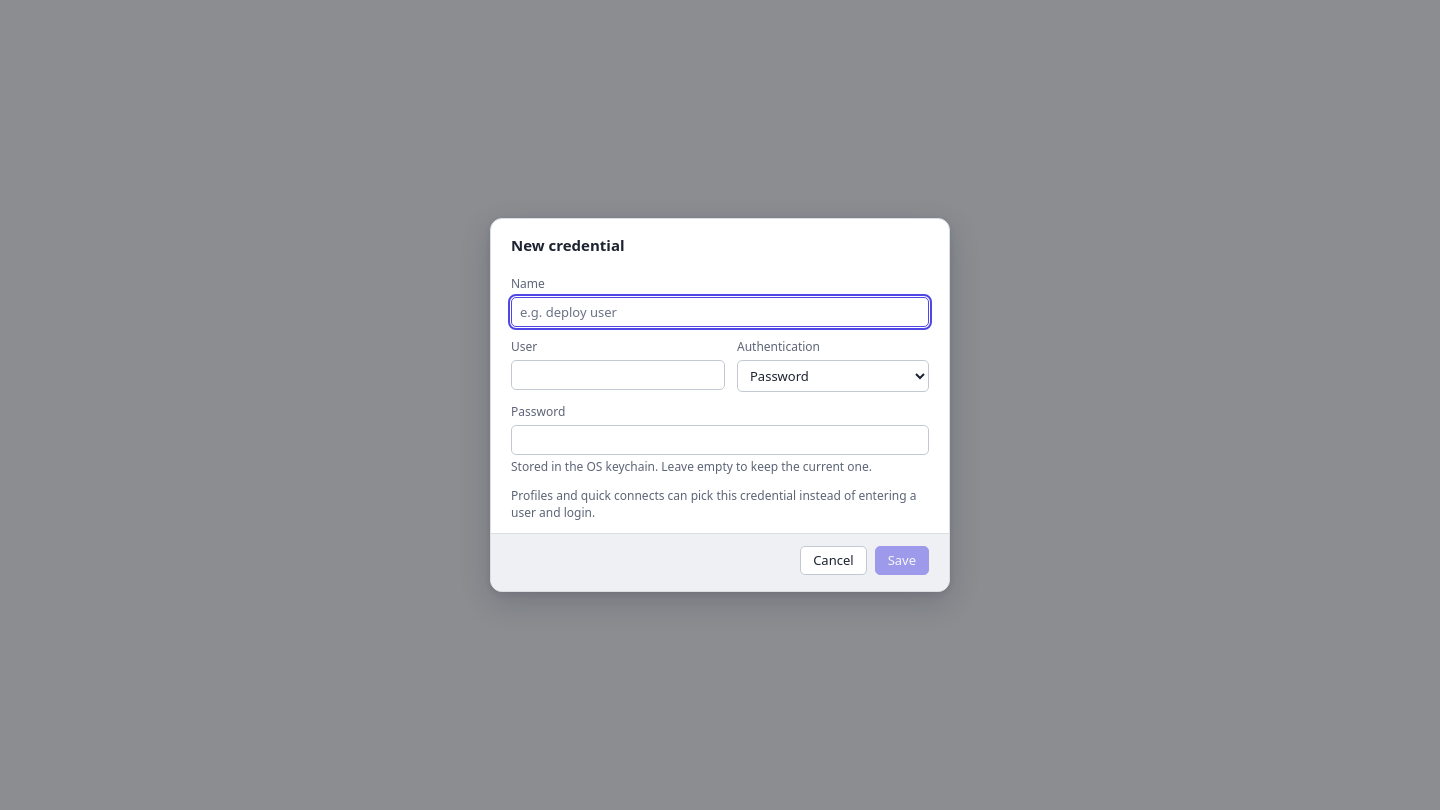
Test case: CredentialDialog › shows backend errors
In the field labelled "Name": (720, 312) [511,297,929,327], type "x"
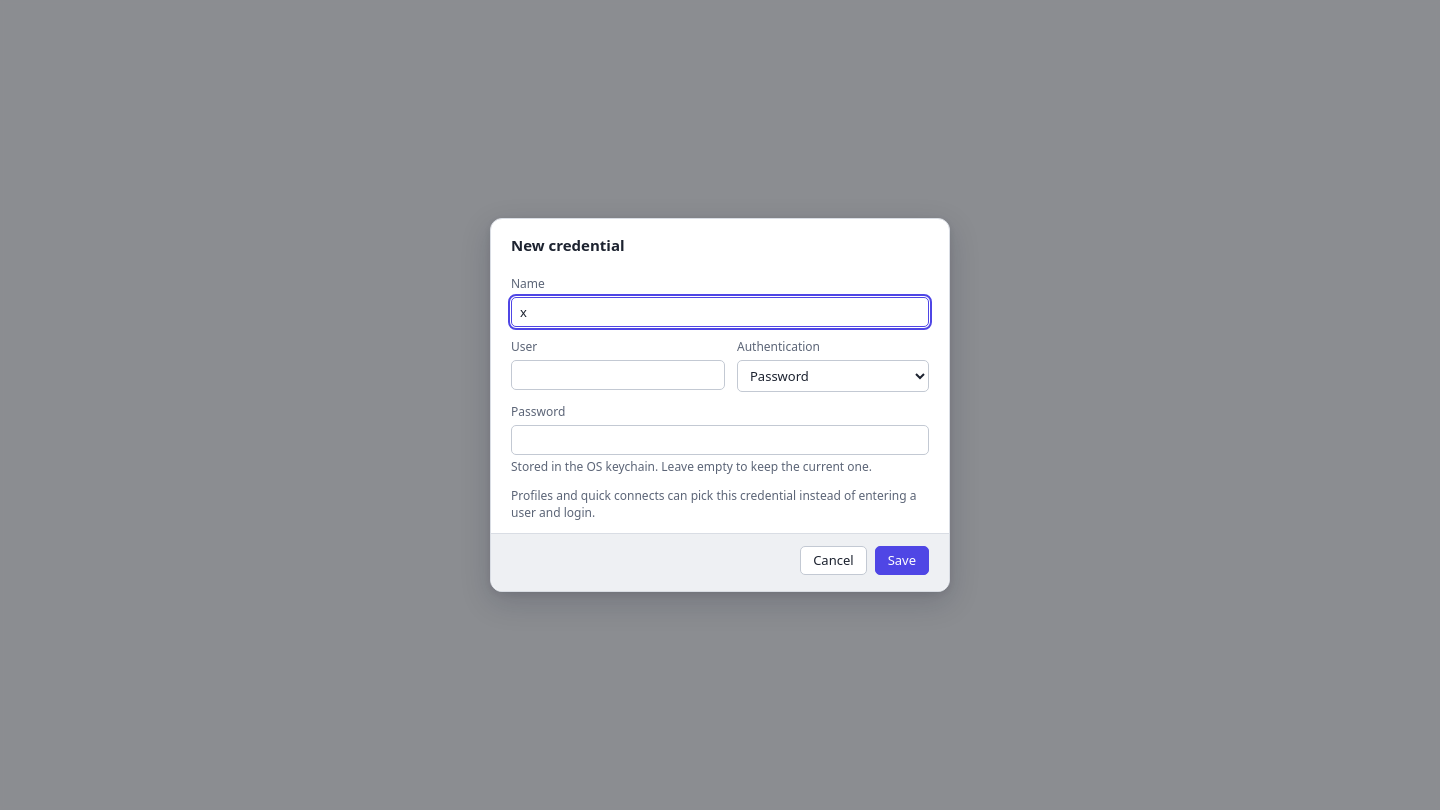
Click the button "Save": (902, 561) [875,546,929,575]
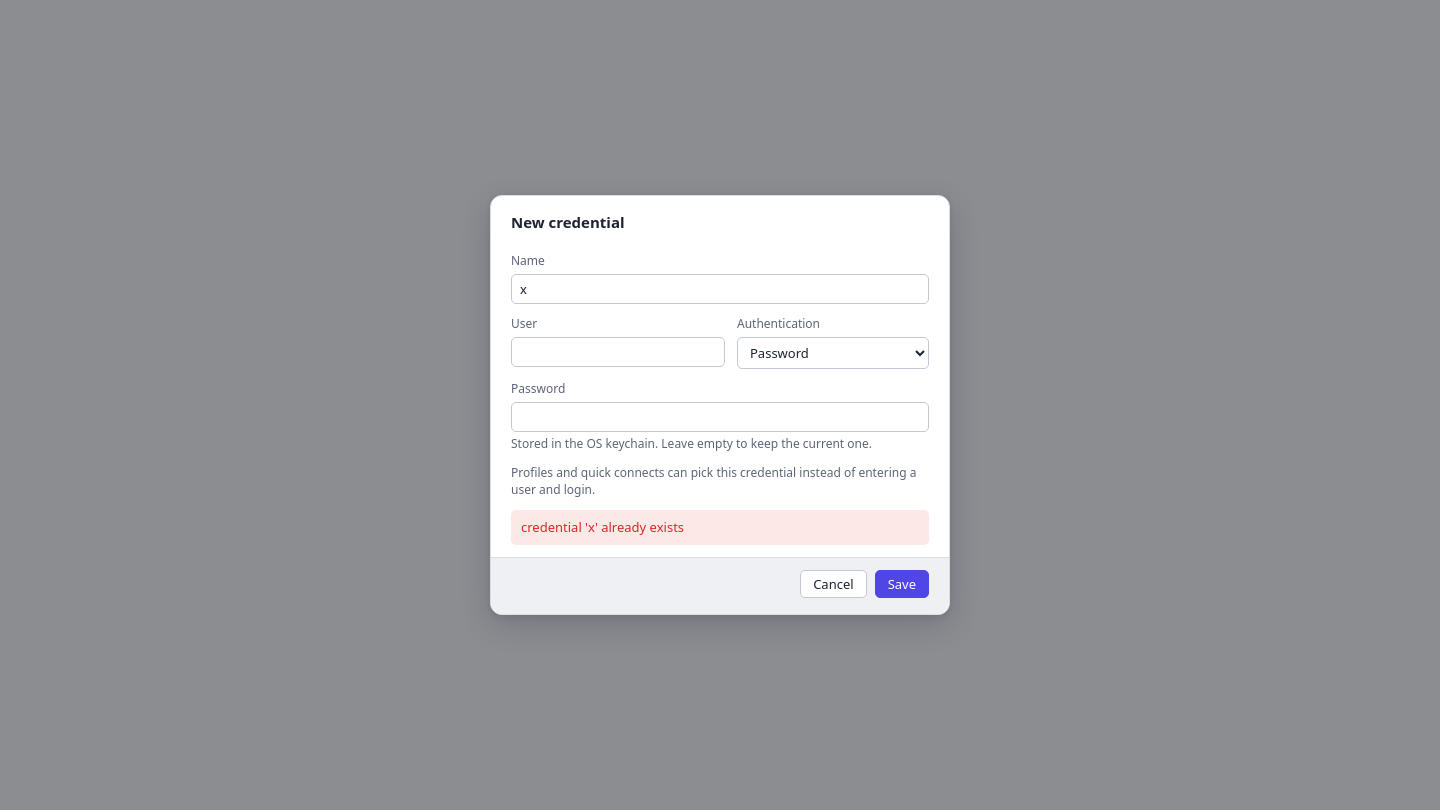
Expected: the message shows "already exists", [521,518,684,536]
